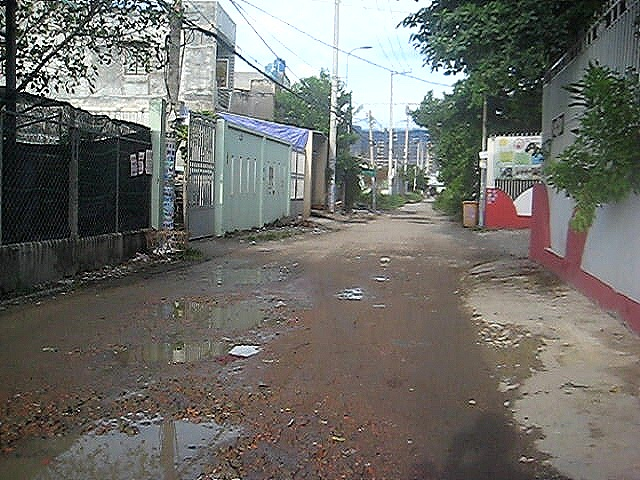hole: (1, 396, 324, 480), (101, 293, 297, 334), (58, 336, 258, 375), (175, 260, 300, 290), (332, 285, 365, 300), (373, 276, 391, 281)
